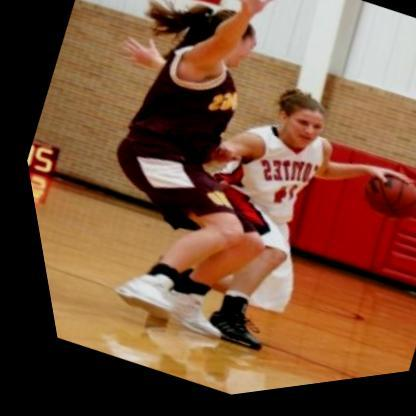basketball: (336, 160, 416, 248)
